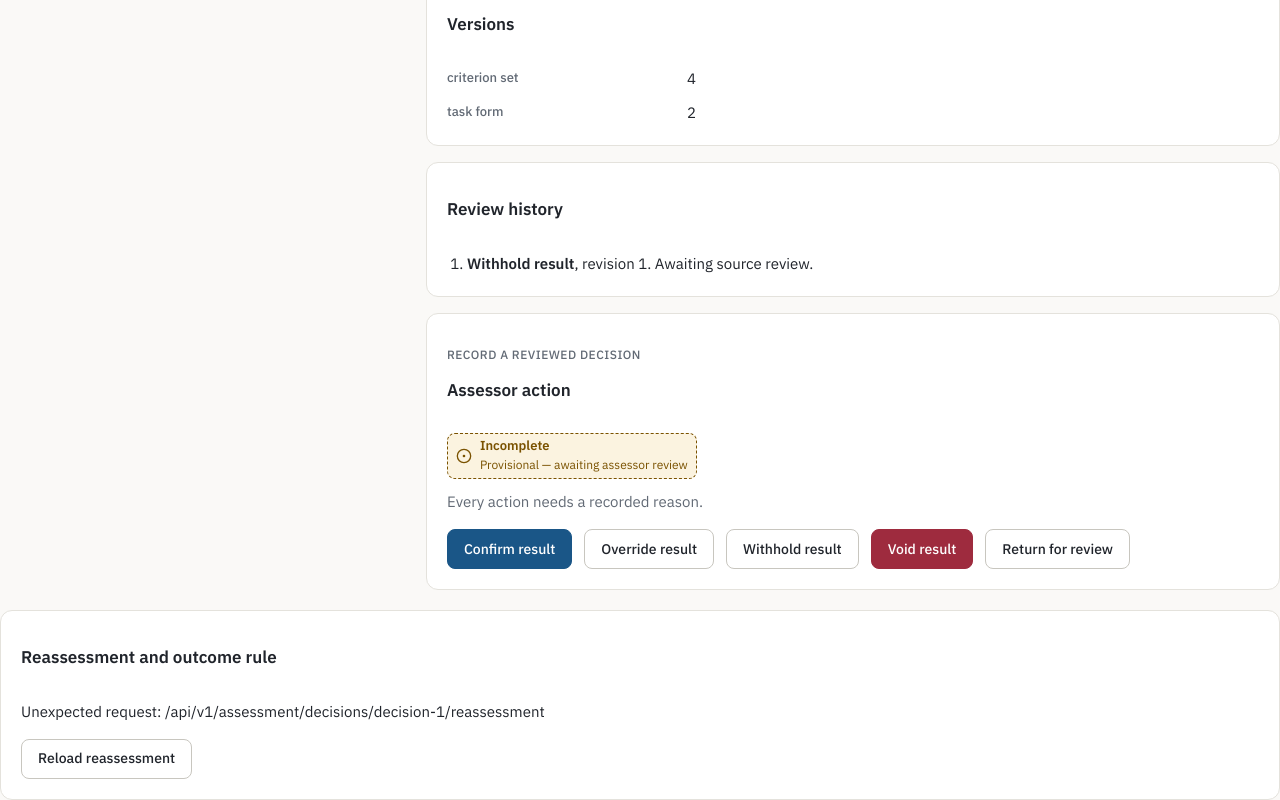
Test case: Confirm result requires a reason before confirm is enabled
(page scrolled)
Click the button "Confirm result" at coordinates (510, 549), box 447,529 -> 572,569
(page scrolled)
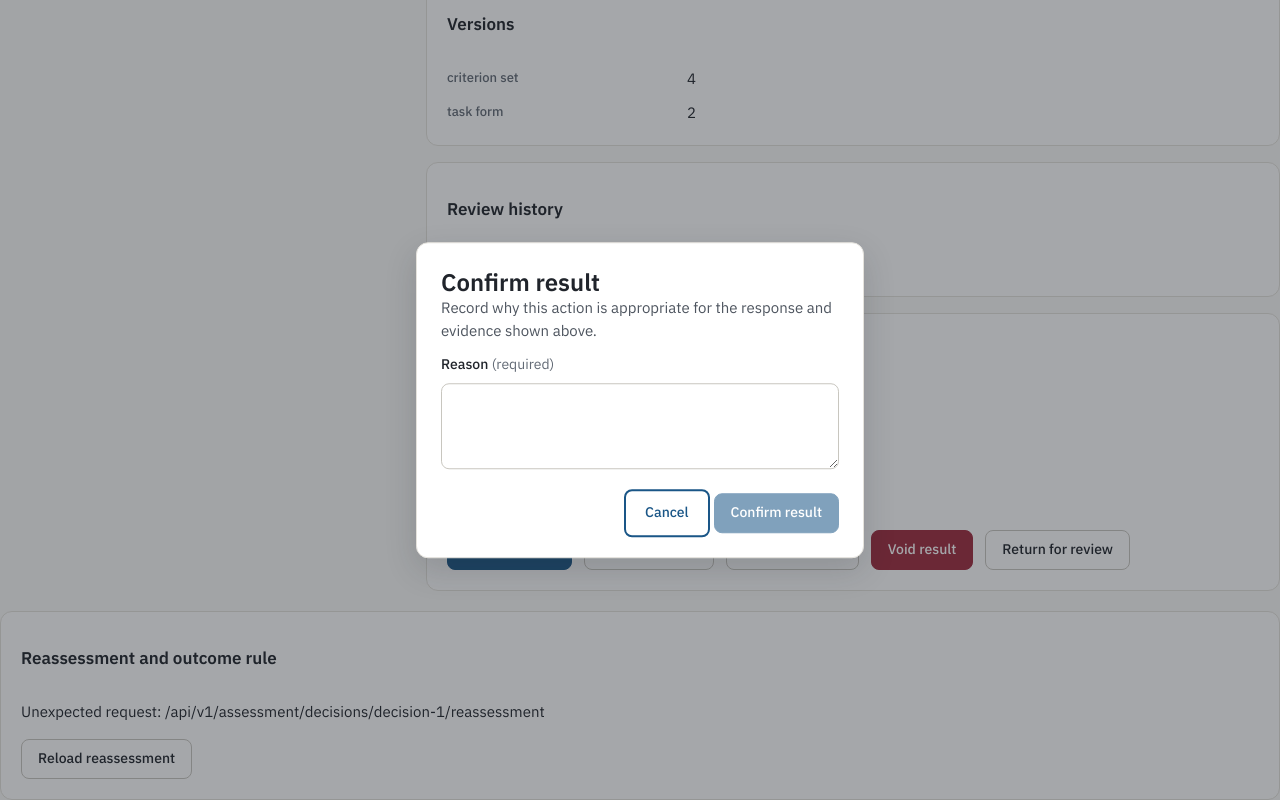
expect the button "Confirm result" is disabled: met, box 714,493 -> 839,533
Type "Reviewed against evidence." into the text box labelled "Reason (required)" at coordinates (640, 426), box 441,383 -> 839,469
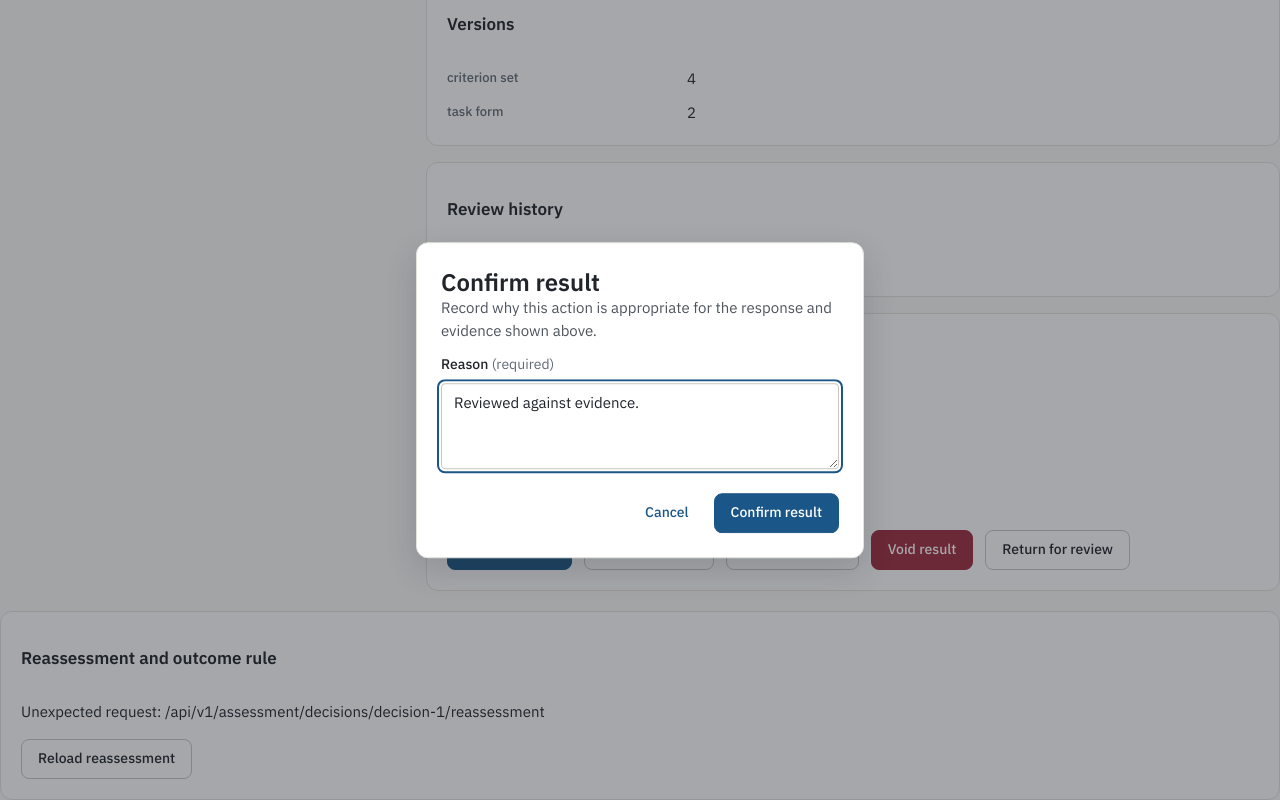
expect the button "Confirm result" is enabled: met, box 714,493 -> 839,533
Clear the text box labelled "Reason (required)" at coordinates (640, 426), box 441,383 -> 839,469
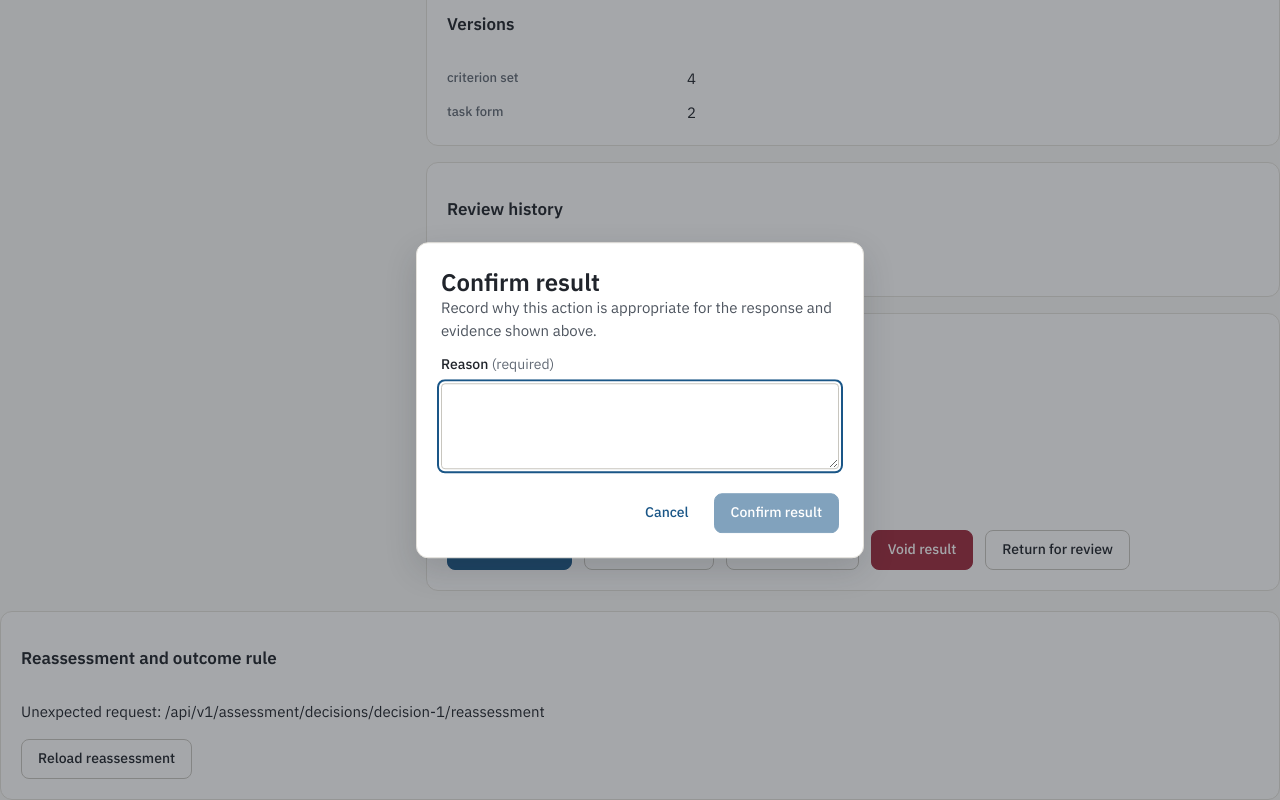
expect the button "Confirm result" is disabled: met, box 714,493 -> 839,533
Click the button "Cancel" at coordinates (667, 513), box 628,493 -> 706,533
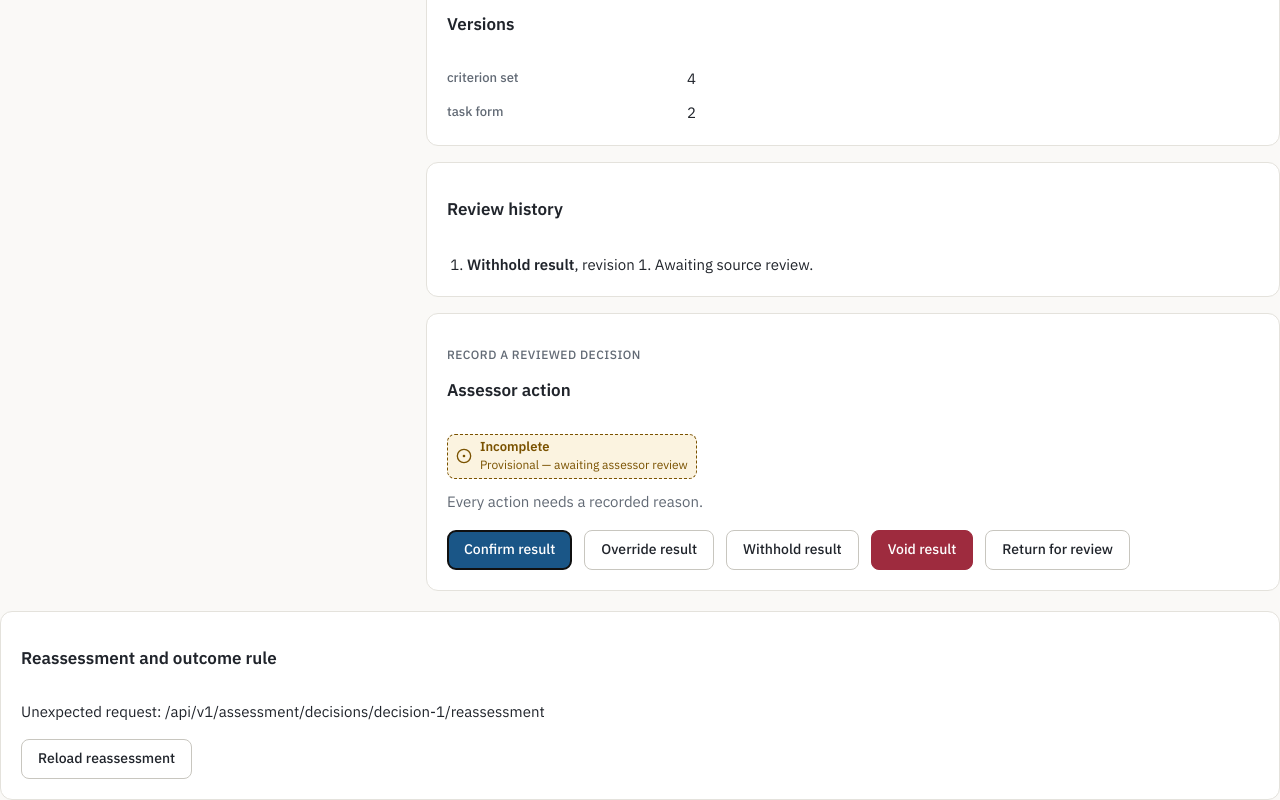
expect the dialog is gone: met
